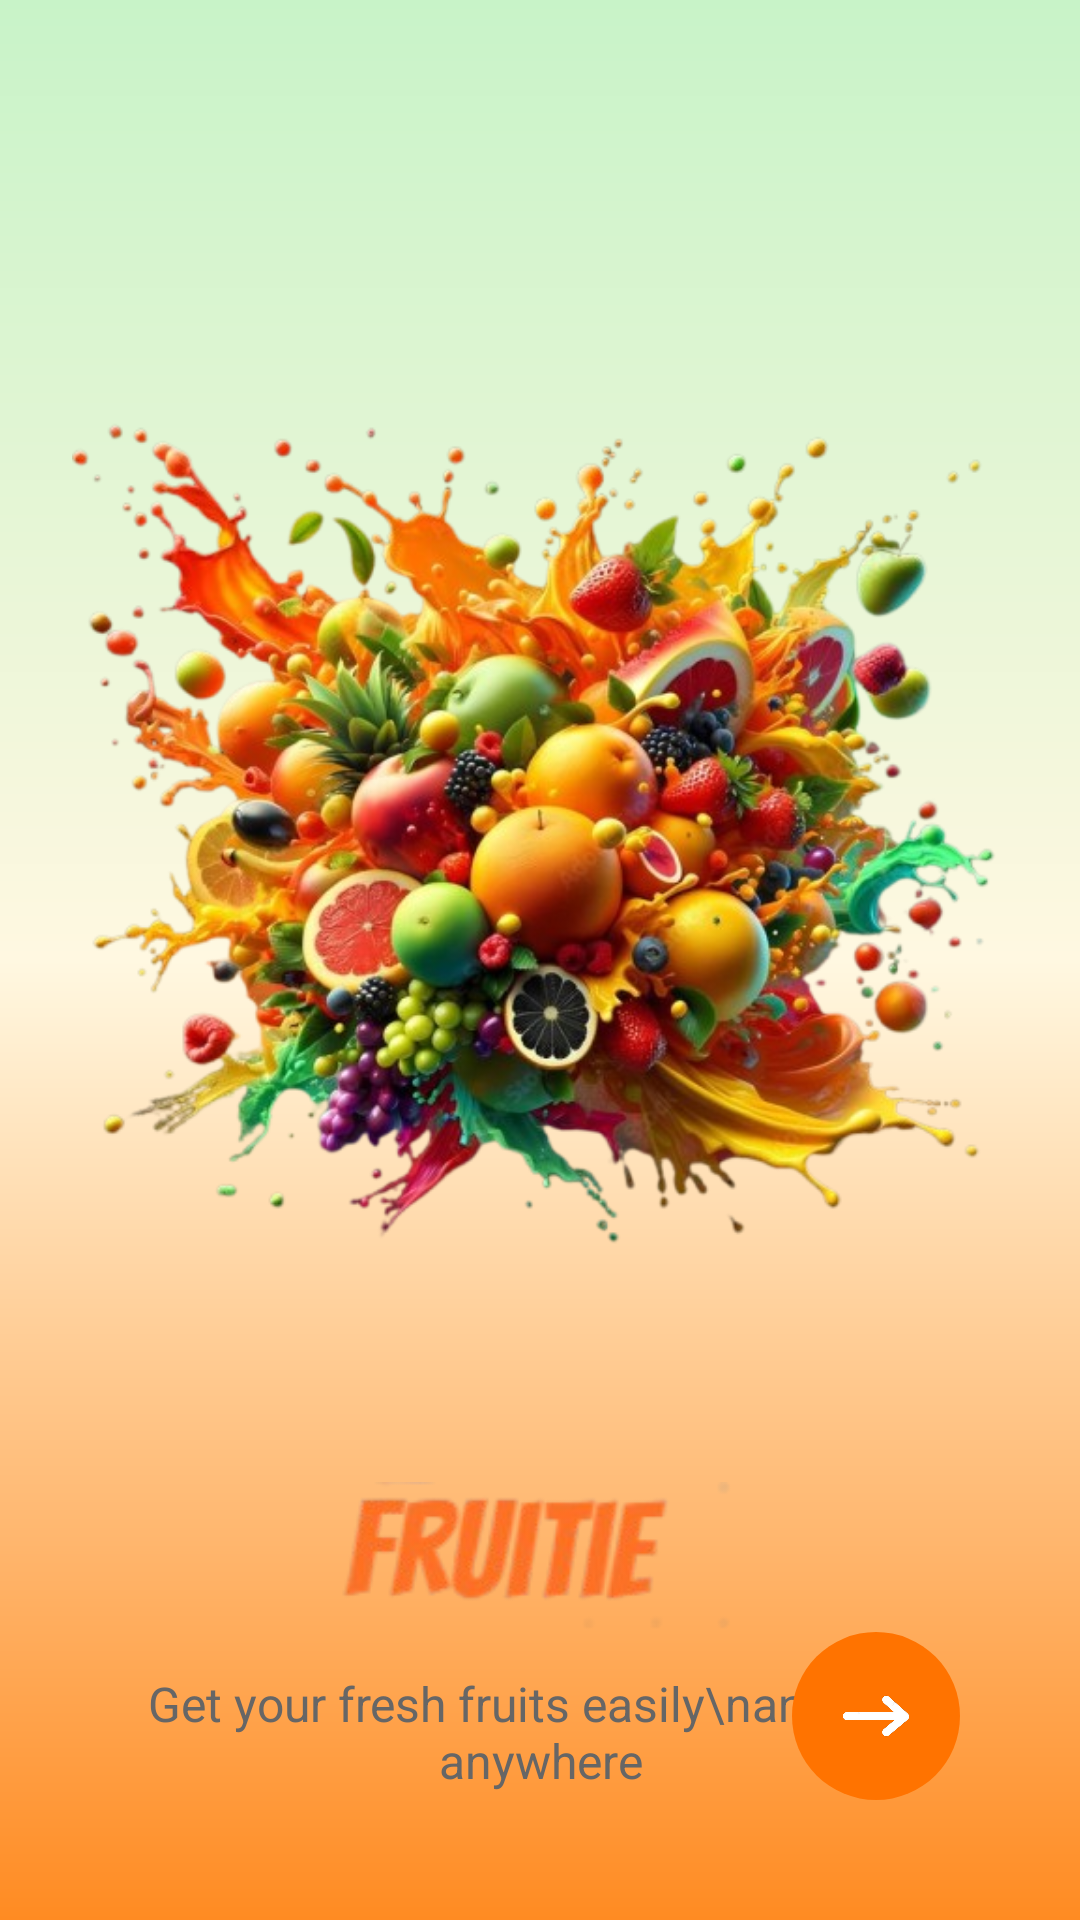

Where icons sit on this 1080 x 1920 app screen, as (x1, y1, x2, y2):
Next: (792, 1632, 960, 1800)
